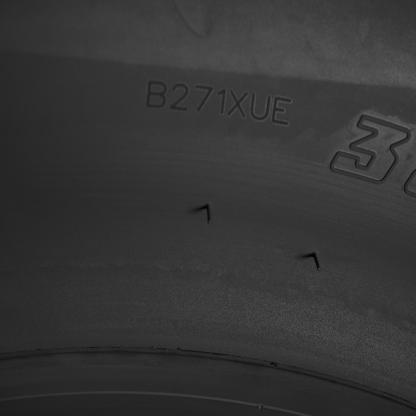ocr: (145, 78, 293, 128)
